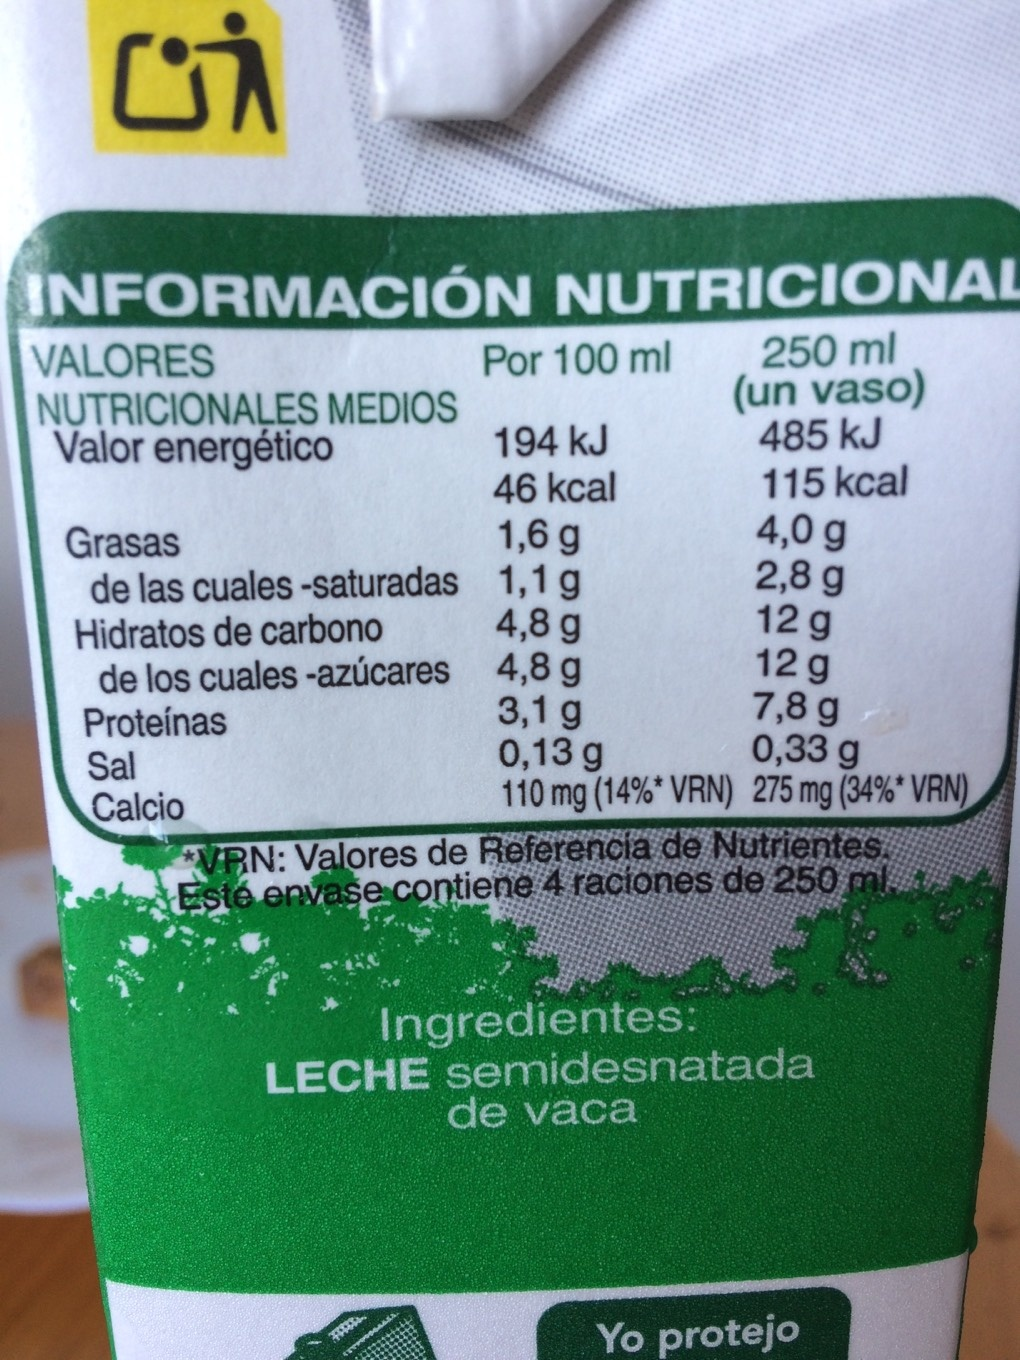column: (20, 332, 463, 823), (478, 333, 727, 813), (733, 335, 970, 811)
table: (1, 203, 1020, 838)
